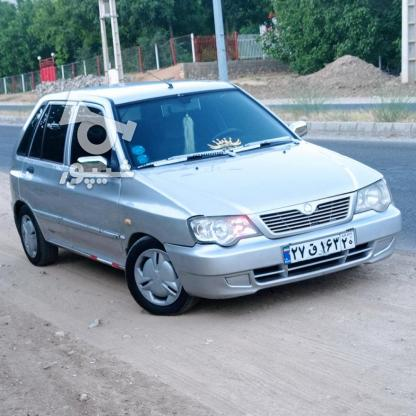car: (283, 227, 358, 267)
